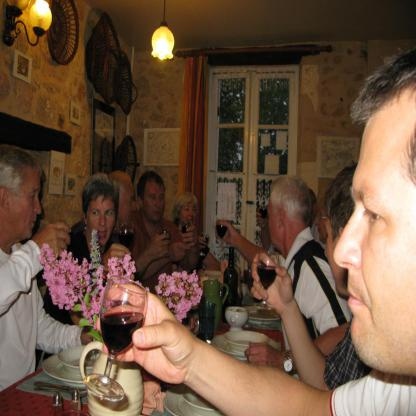face: (334, 97, 416, 372), (324, 214, 357, 299), (11, 166, 43, 241), (87, 197, 116, 248), (116, 177, 138, 227), (145, 180, 168, 223), (268, 200, 286, 245), (317, 203, 335, 242), (182, 202, 198, 229)
